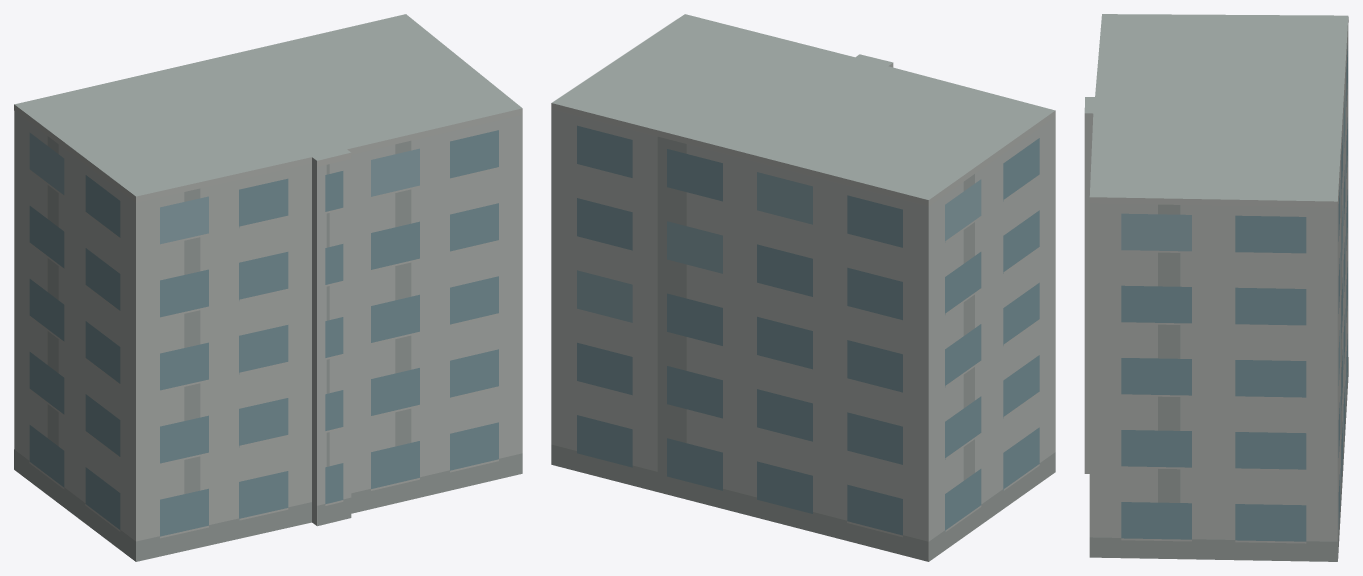
Rendered from survey-upis-32566067.glb.
3 views of the same model, side by side, from view 1: azimuth 30°, elevation 25°; view 2: azimuth 150°, elevation 25°; view 3: azimuth 270°, elevation 25° (orthographic).
Visible parts, largest first — view 1: survey-upis-32566067.tmp; view 2: survey-upis-32566067.tmp; view 3: survey-upis-32566067.tmp.
Boxes of the visible parts, bbox=[...] form: survey-upis-32566067.tmp: bbox=[14, 14, 522, 561]; survey-upis-32566067.tmp: bbox=[551, 14, 1055, 561]; survey-upis-32566067.tmp: bbox=[1084, 14, 1348, 561].
Bounding box in the file's own units: 15.86 × 14.2 × 9.43.
